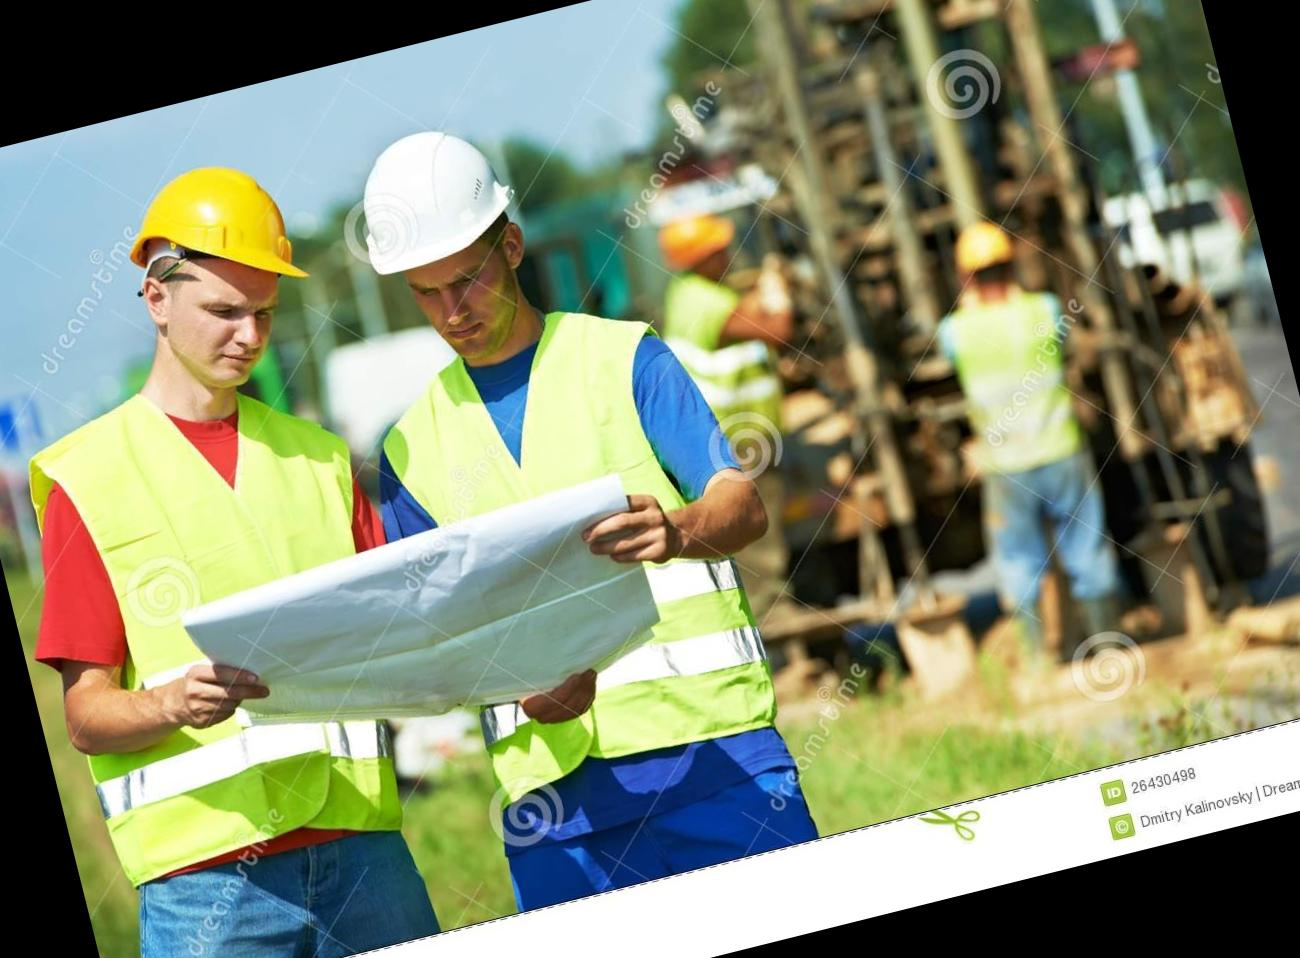Vest: (367, 308, 790, 802), (52, 368, 418, 873)
